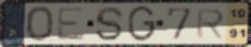7: (165, 6, 193, 41)
E: (56, 6, 87, 42)
G: (126, 4, 158, 43)
O: (24, 5, 56, 43)
R: (194, 8, 226, 40)
S: (94, 5, 126, 42)
